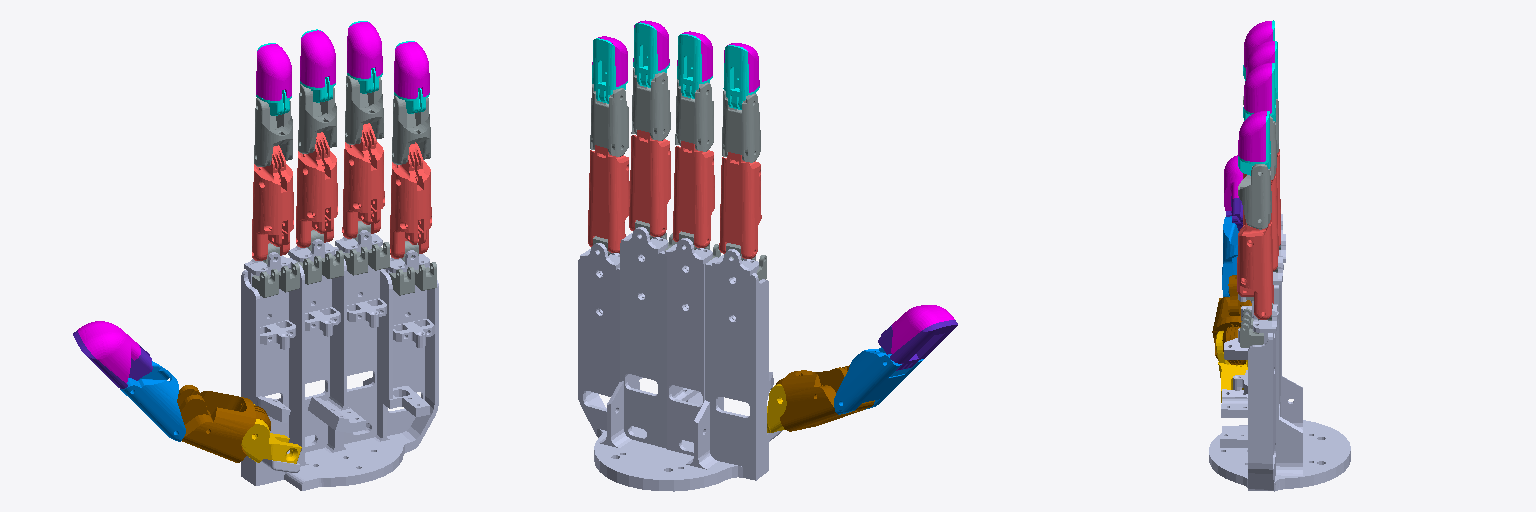
--- Render facts (derived) ---
Views: 3 orthographic renders of the robot side by side, from view 1: azimuth 30°, elevation 25°; view 2: azimuth 150°, elevation 25°; view 3: azimuth 270°, elevation 25°.
Model left_hand with 35 links and 34 joints (20 revolute, 8 prismatic, 6 fixed), rooted at left_base_link, posed every joint at zero.
Visible links, largest first — view 1: left_frame_link, left_thumb_metacarpol_link, left_pinky_proximal_link, left_ring_proximal_link, left_index_proximal_link, left_middle_proximal_link, left_thumb_proximal_link, left_thumb_tip_link, left_ring_middle_link, left_middle_middle_link, left_index_middle_link, left_pinky_middle_link (+10 smaller); view 2: left_frame_link, left_index_proximal_link, left_middle_proximal_link, left_ring_proximal_link, left_pinky_proximal_link, left_thumb_metacarpol_link, left_thumb_proximal_link, left_pinky_middle_link, left_index_middle_link, left_ring_middle_link, left_middle_middle_link, left_thumb_distal_link (+9 smaller); view 3: left_frame_link, left_pinky_proximal_link, left_pinky_middle_link, left_thumb_metacarpol_link, left_pinky_tip_link, left_ring_tip_link, left_thumb_proximal_link, left_t_Link, left_thumb_tip_link, left_index_tip_link, left_ring_proximal_link, left_middle_tip_link.
Boxes of the visible links, <box> form: left_frame_link: <box>241,230,438,490</box>; left_thumb_metacarpol_link: <box>177,385,270,462</box>; left_pinky_proximal_link: <box>390,142,431,258</box>; left_ring_proximal_link: <box>342,123,384,238</box>; left_index_proximal_link: <box>252,145,293,260</box>; left_middle_proximal_link: <box>296,132,337,247</box>; left_thumb_proximal_link: <box>120,361,185,441</box>; left_thumb_tip_link: <box>78,321,140,382</box>; left_ring_middle_link: <box>345,75,383,144</box>; left_middle_middle_link: <box>298,84,336,153</box>; left_index_middle_link: <box>254,98,292,166</box>; left_pinky_middle_link: <box>392,95,430,164</box>; left_frame_link: <box>578,227,782,491</box>; left_index_proximal_link: <box>719,152,761,258</box>; left_middle_proximal_link: <box>673,141,714,247</box>; left_ring_proximal_link: <box>629,130,670,236</box>; left_pinky_proximal_link: <box>588,145,629,252</box>; left_thumb_metacarpol_link: <box>776,365,874,431</box>; left_thumb_proximal_link: <box>834,347,923,414</box>; left_pinky_middle_link: <box>590,84,628,156</box>; left_index_middle_link: <box>722,90,760,162</box>; left_ring_middle_link: <box>631,68,670,140</box>; left_middle_middle_link: <box>675,79,713,151</box>; left_thumb_distal_link: <box>878,320,957,370</box>; left_frame_link: <box>1209,214,1350,491</box>; left_pinky_proximal_link: <box>1237,213,1273,319</box>; left_pinky_middle_link: <box>1238,164,1271,229</box>; left_thumb_metacarpol_link: <box>1212,275,1251,364</box>; left_pinky_tip_link: <box>1238,111,1266,161</box>; left_ring_tip_link: <box>1244,63,1271,113</box>; left_thumb_proximal_link: <box>1222,216,1238,296</box>; left_t_Link: <box>1216,331,1247,402</box>; left_thumb_tip_link: <box>1224,155,1242,210</box>; left_index_tip_link: <box>1244,21,1272,67</box>; left_ring_proximal_link: <box>1243,168,1278,270</box>; left_middle_tip_link: <box>1246,41,1274,77</box>.
Size in the robot's own frame: 0.1682 by 0.0601 by 0.19 metres.
Meshes: 35 distinct files referenced, 34 mesh visuals loaded (34 binary STL); not drawn: 1 (reference not matched to a file when rendering).

The robot description file, URDF, robot "left_hand":
<?xml version="1.0" encoding="utf-8"?>

<robot xmlns:xacro="http://ros.org/wiki/xacro" name="left_hand">
  <link
    name="left_base_link">
    <inertial>
      <origin
        xyz="5.18987266181319E-05 -5.18977325802022E-05 0.000838161394932715"
        rpy="0 0 0" />
      <mass
        value="0.018515312401126" />
      <inertia
        ixx="3.87059950304649E-06"
        ixy="-1.16876867872686E-08"
        ixz="3.68816984008469E-09"
        iyy="3.87059950113593E-06"
        iyz="-3.68810331792554E-09"
        izz="7.41475439850188E-06" />
    </inertial>
    <visual>
      <origin
        xyz="0 0 0"
        rpy="0 0 0" />
      <geometry>
        <mesh
          filename="package://visualization/urdf/left_hand_v1_meshes/base_link.STL" />
      </geometry>
      <material
        name="">
        <color
          rgba="0.611764705882353 0.658823529411765 0.670588235294118 1" />
      </material>
    </visual>
    <collision>
      <origin
        xyz="0 0 0"
        rpy="0 0 0" />
      <geometry>
        <mesh
          filename="package://visualization/urdf/left_hand_v1_meshes/base_link.STL" />
      </geometry>
    </collision>
  </link>
  <link
    name="left_frame_link">
    <inertial>
      <origin
        xyz="-0.00131149794330205 -0.0030198285167925 0.0400373579826716"
        rpy="0 0 0" />
      <mass
        value="0.046182728238364" />
      <inertia
        ixx="4.81110559801415E-05"
        ixy="6.61621141018433E-09"
        ixz="-6.52338485095017E-07"
        iyy="6.8309899093898E-05"
        iyz="1.48394203038913E-06"
        izz="2.82467906176085E-05" />
    </inertial>
    <visual>
      <origin
        xyz="0 0 0"
        rpy="0 0 0" />
      <geometry>
        <mesh
          filename="package://visualization/urdf/left_hand_v1_meshes/frame_link.STL" />
      </geometry>
      <material
        name="">
        <color
          rgba="0.792156862745098 0.819607843137255 0.933333333333333 1" />
      </material>
    </visual>
    <collision>
      <origin
        xyz="0 0 0"
        rpy="0 0 0" />
      <geometry>
        <mesh
          filename="package://visualization/urdf/left_hand_v1_meshes/frame_link.STL" />
      </geometry>
    </collision>
  </link>
  <joint
    name="left_frame"
    type="fixed">
    <origin
      xyz="0 0 0"
      rpy="0 0 0" />
    <parent
      link="left_base_link" />
    <child
      link="left_frame_link" />
    <axis
      xyz="0 0 0" />
  </joint>
  <link
    name="left_t_Link">
    <inertial>
      <origin
        xyz="-3.08384568642236E-05 0.000240555422902813 0.0120463125269918"
        rpy="0 0 0" />
      <mass
        value="0.00253406620111725" />
      <inertia
        ixx="1.85406505691861E-07"
        ixy="3.30158295818867E-09"
        ixz="7.28330421632582E-09"
        iyy="2.01151940565427E-07"
        iyz="3.96298627980716E-08"
        izz="1.14105600924877E-07" />
    </inertial>
    <visual>
      <origin
        xyz="0 0 0"
        rpy="0 0 0" />
      <geometry>
        <mesh
          filename="package://visualization/urdf/left_hand_v1_meshes/t_Link.STL" />
      </geometry>
      <material
        name="">
        <color
          rgba="1 0.792156862745098 0 1" />
      </material>
    </visual>
    <collision>
      <origin
        xyz="0 0 0"
        rpy="0 0 0" />
      <geometry>
        <mesh
          filename="package://visualization/urdf/left_hand_v1_meshes/t_Link.STL" />
      </geometry>
    </collision>
  </link>
  <joint
    name="left_thumb_cmc_abd"
    type="revolute">
    <origin
      xyz="-0.030369 -0.017851 0.02455"
      rpy="-1.2157 0.011469 1.5547" />
    <parent
      link="left_frame_link" />
    <child
      link="left_t_Link" />
    <axis
      xyz="0 -1 0" />
    <limit
      lower="0"
      upper="1.7453"
      effort="0"
      velocity="0" />
  </joint>
  <link
    name="left_thumb_metacarpol_link">
    <inertial>
      <origin
        xyz="2.09657379764625E-05 0.00427828067153943 0.0144687529126539"
        rpy="0 0 0" />
      <mass
        value="0.00864256984122037" />
      <inertia
        ixx="1.35636904545493E-06"
        ixy="-2.87937562115091E-10"
        ixz="1.37414127578593E-09"
        iyy="1.44909697468064E-06"
        iyz="-1.52439782313262E-07"
        izz="5.95952963406302E-07" />
    </inertial>
    <visual>
      <origin
        xyz="0 0 0"
        rpy="0 0 0" />
      <geometry>
        <mesh
          filename="package://visualization/urdf/left_hand_v1_meshes/thumb_metacarpol_link.STL" />
      </geometry>
      <material
        name="">
        <color
          rgba="0.643137254901961 0.4 0 1" />
      </material>
    </visual>
    <collision>
      <origin
        xyz="0 0 0"
        rpy="0 0 0" />
      <geometry>
        <mesh
          filename="package://visualization/urdf/left_hand_v1_meshes/thumb_metacarpol_link.STL" />
      </geometry>
    </collision>
  </link>
  <joint
    name="left_thumb_cmc_flex"
    type="revolute">
    <origin
      xyz="-0.00075443 -0.0051626 0.019636"
      rpy="0.14637 0.11355 -0.25937" />
    <parent
      link="left_t_Link" />
    <child
      link="left_thumb_metacarpol_link" />
    <axis
      xyz="1 0 0" />
    <limit
      lower="0"
      upper="1.4000"
      effort="0"
      velocity="0" />
  </joint>
  <link
    name="left_thumb_proximal_link">
    <inertial>
      <origin
        xyz="-1.2536117961065E-07 -0.00656432330561672 0.0129652144635366"
        rpy="0 0 0" />
      <mass
        value="0.0046151063369737" />
      <inertia
        ixx="4.35628666557695E-07"
        ixy="6.57077312738029E-12"
        ixz="-4.22802893672778E-12"
        iyy="5.89704888202919E-07"
        iyz="1.02506970054824E-07"
        izz="3.71649031691875E-07" />
    </inertial>
    <visual>
      <origin
        xyz="0 0 0"
        rpy="0 0 0" />
      <geometry>
        <mesh
          filename="package://visualization/urdf/left_hand_v1_meshes/thumb_proximal_link.STL" />
      </geometry>
      <material
        name="">
        <color
          rgba="0 0.6 1 1" />
      </material>
    </visual>
    <collision>
      <origin
        xyz="0 0 0"
        rpy="0 0 0" />
      <geometry>
        <mesh
          filename="package://visualization/urdf/left_hand_v1_meshes/thumb_proximal_link.STL" />
      </geometry>
    </collision>
  </link>
  <joint
    name="left_thumb_mcp"
    type="revolute">
    <origin
      xyz="0 0.0095039 0.034725"
      rpy="0 0 0" />
    <parent
      link="left_thumb_metacarpol_link" />
    <child
      link="left_thumb_proximal_link" />
    <axis
      xyz="1 0 0" />
    <limit
      lower="0"
      upper="1.2217"
      effort="0"
      velocity="0" />
  </joint>
  <link
    name="left_thumb_distal_link">
    <inertial>
      <origin
        xyz="-2.76382415433096E-06 -0.00244686822878971 0.0102409693191272"
        rpy="0 0 0" />
      <mass
        value="0.00364556544568981" />
      <inertia
        ixx="2.84594518625826E-07"
        ixy="-1.43913603575363E-11"
        ixz="-2.41744912080281E-11"
        iyy="2.91849820961359E-07"
        iyz="-5.12578188401234E-08"
        izz="1.35188439858873E-07" />
    </inertial>
    <visual>
      <origin
        xyz="0 0 0"
        rpy="0 0 0" />
      <geometry>
        <mesh
          filename="package://visualization/urdf/left_hand_v1_meshes/thumb_distal_link.STL" />
      </geometry>
      <material
        name="">
        <color
          rgba="0.4 0.2 0.8 1" />
      </material>
    </visual>
    <collision>
      <origin
        xyz="0 0 0"
        rpy="0 0 0" />
      <geometry>
        <mesh
          filename="package://visualization/urdf/left_hand_v1_meshes/thumb_distal_link.STL" />
      </geometry>
    </collision>
  </link>
  <joint
    name="left_thumb_ip"
    type="revolute">
    <origin
      xyz="0 -0.009767 0.028366"
      rpy="0.34907 0 0" />
    <parent
      link="left_thumb_proximal_link" />
    <child
      link="left_thumb_distal_link" />
    <axis
      xyz="1 0 0" />
    <limit
      lower="0"
      upper="1.5708"
      effort="0"
      velocity="0" />
  </joint>
  <link
    name="left_thumb_tip_link">
    <inertial>
      <origin
        xyz="-2.52063887179466E-07 -0.00771439512482892 -0.0101737551441116"
        rpy="0 0 0" />
      <mass
        value="0.00296168286968343" />
      <inertia
        ixx="1.23951170371756E-07"
        ixy="2.42533006342412E-12"
        ixz="1.04281426870498E-13"
        iyy="1.83279698051373E-07"
        iyz="-2.08364584683859E-08"
        izz="1.35391579603096E-07" />
    </inertial>
    <visual>
      <origin
        xyz="0 0 0"
        rpy="0 0 0" />
      <geometry>
        <mesh
          filename="package://visualization/urdf/left_hand_v1_meshes/thumb_tip_link.STL" />
      </geometry>
      <material
        name="">
        <color
          rgba="1 0 1 1" />
      </material>
    </visual>
    <collision>
      <origin
        xyz="0 0 0"
        rpy="0 0 0" />
      <geometry>
        <mesh
          filename="package://visualization/urdf/left_hand_v1_meshes/thumb_tip_link.STL" />
      </geometry>
    </collision>
  </link>
  <joint
    name="left_thumb_tip"
    type="fixed">
    <origin
      xyz="0 0.0023115858897875 0.029876683808909"
      rpy="0 0 0" />
    <parent
      link="left_thumb_distal_link" />
    <child
      link="left_thumb_tip_link" />
    <axis
      xyz="0 0 0" />
  </joint>
  <link
    name="left_index_f_link">
    <inertial>
      <origin
        xyz="2.08166817117217E-17 7.68523219621002E-05 0.000988451431081809"
        rpy="0 0 0" />
      <mass
        value="0.000272618505177845" />
      <inertia
        ixx="2.42307312371155E-09"
        ixy="3.03096091958171E-24"
        ixz="6.04361146080156E-24"
        iyy="2.67029546368636E-09"
        iyz="-5.19188852052262E-11"
        izz="1.91591070620696E-09" />
    </inertial>
    <visual>
      <origin
        xyz="0 0 0"
        rpy="0 0 0" />
      <geometry>
        <mesh
          filename="package://visualization/urdf/left_hand_v1_meshes/index_f_link.STL" />
      </geometry>
      <material
        name="">
        <color
          rgba="0.611764705882353 0.658823529411765 0.670588235294118 1" />
      </material>
    </visual>
    <collision>
      <origin
        xyz="0 0 0"
        rpy="0 0 0" />
      <geometry>
        <mesh
          filename="package://visualization/urdf/left_hand_v1_meshes/index_f_link.STL" />
      </geometry>
    </collision>
  </link>
  <joint
    name="left_index_mcp_abd"
    type="revolute">
    <origin
      xyz="-0.029596 -0.003707 0.1018"
      rpy="0 0 0.034907" />
    <parent
      link="left_frame_link" />
    <child
      link="left_index_f_link" />
    <axis
      xyz="0 1 0" />
    <limit
      lower="-0.2618"
      upper="0.2618"
      effort="0"
      velocity="0" />
  </joint>
  <link
    name="left_index_proximal_link">
    <inertial>
      <origin
        xyz="1.13828329435794E-07 -0.00246889103565057 0.020518447772934"
        rpy="0 0 0" />
      <mass
        value="0.00599684399920735" />
      <inertia
        ixx="8.1163997252189E-07"
        ixy="-1.19238452054171E-12"
        ixz="1.44955396996456E-11"
        iyy="8.282578794773E-07"
        iyz="1.72424028288894E-08"
        izz="1.80781825011687E-07" />
    </inertial>
    <visual>
      <origin
        xyz="0 0 0"
        rpy="0 0 0" />
      <geometry>
        <mesh
          filename="package://visualization/urdf/left_hand_v1_meshes/index_proximal_link.STL" />
      </geometry>
      <material
        name="">
        <color
          rgba="1 0.4 0.4 1" />
      </material>
    </visual>
    <collision>
      <origin
        xyz="0 0 0"
        rpy="0 0 0" />
      <geometry>
        <mesh
          filename="package://visualization/urdf/left_hand_v1_meshes/index_proximal_link.STL" />
      </geometry>
    </collision>
  </link>
  <joint
    name="left_index_mcp_flex"
    type="revolute">
    <origin
      xyz="0 -0.0004 0.0027"
      rpy="0.018103 0 0" />
    <parent
      link="left_index_f_link" />
    <child
      link="left_index_proximal_link" />
    <axis
      xyz="1 0 0" />
    <limit
      lower="0"
      upper="1.5708"
      effort="0"
      velocity="0" />
  </joint>
  <link
    name="left_index_middle_link">
    <inertial>
      <origin
        xyz="1.60194246211914E-07 -0.00107010034902085 0.0096497999202657"
        rpy="0 0 0" />
      <mass
        value="0.0022951205465851" />
      <inertia
        ixx="1.27438304642925E-07"
        ixy="-3.37593078742999E-13"
        ixz="4.63466424878181E-13"
        iyy="1.52271816080716E-07"
        iyz="-5.57513834715427E-09"
        izz="7.2275326005948E-08" />
    </inertial>
    <visual>
      <origin
        xyz="0 0 0"
        rpy="0 0 0" />
      <geometry>
        <mesh
          filename="package://visualization/urdf/left_hand_v1_meshes/index_middle_link.STL" />
      </geometry>
      <material
        name="">
        <color
          rgba="0.611764705882353 0.658823529411765 0.670588235294118 1" />
      </material>
    </visual>
    <collision>
      <origin
        xyz="0 0 0"
        rpy="0 0 0" />
      <geometry>
        <mesh
          filename="package://visualization/urdf/left_hand_v1_meshes/index_middle_link.STL" />
      </geometry>
    </collision>
  </link>
  <joint
    name="left_index_pip"
    type="revolute">
    <origin
      xyz="0 -0.000704692474492747 0.0430188505587838"
      rpy="0 0 0" />
    <parent
      link="left_index_proximal_link" />
    <child
      link="left_index_middle_link" />
    <axis
      xyz="1 0 0" />
    <limit
      lower="0"
      upper="1.5708"
      effort="0"
      velocity="0" />
  </joint>
  <link
    name="left_index_distal_link">
    <inertial>
      <origin
        xyz="1.05220411560775E-07 -0.00129401872799453 0.00673885761500959"
        rpy="0 0 0" />
      <mass
        value="0.00137698971613404" />
      <inertia
        ixx="6.73515509763739E-08"
        ixy="6.01530176373286E-13"
        ixz="5.76066252612455E-14"
        iyy="5.97413332404224E-08"
        iyz="-1.27696422128919E-08"
        izz="2.50978344022667E-08" />
    </inertial>
    <visual>
      <origin
        xyz="0 0 0"
        rpy="0 0 0" />
      <geometry>
        <mesh
          filename="package://visualization/urdf/left_hand_v1_meshes/index_distal_link.STL" />
      </geometry>
      <material
        name="">
        <color
          rgba="0 1 1 1" />
      </material>
    </visual>
    <collision>
      <origin
        xyz="0 0 0"
        rpy="0 0 0" />
      <geometry>
        <mesh
          filename="package://visualization/urdf/left_hand_v1_meshes/index_distal_link.STL" />
      </geometry>
    </collision>
  </link>
  <joint
    name="left_index_dip"
    type="revolute">
    <origin
      xyz="0 0.000383952941619931 0.0219966492934402"
      rpy="-0.00275677194064253 0 0" />
    <parent
      link="left_index_middle_link" />
    <child
      link="left_index_distal_link" />
    <axis
      xyz="1 0 0" />
    <limit
      lower="0"
      upper="1.5708"
      effort="0"
      velocity="0" />
  </joint>
  <link
    name="left_index_tip_link">
    <inertial>
      <origin
        xyz="-2.15232385664121E-08 -0.00637900676058869 -0.00961579748883559"
        rpy="0 0 0" />
      <mass
        value="0.00170572301090788" />
      <inertia
        ixx="5.74548529133021E-08"
        ixy="-3.42355780349361E-14"
        ixz="-7.93965165529592E-13"
        iyy="6.61878208388039E-08"
        iyz="-1.00599153313456E-08"
        izz="4.09447660273453E-08" />
    </inertial>
    <visual>
      <origin
        xyz="0 0 0"
        rpy="0 0 0" />
      <geometry>
        <mesh
          filename="package://visualization/urdf/left_hand_v1_meshes/index_tip_link.STL" />
      </geometry>
      <material
        name="">
        <color
          rgba="1 0 1 1" />
      </material>
    </visual>
    <collision>
      <origin
        xyz="0 0 0"
        rpy="0 0 0" />
      <geometry>
        <mesh
          filename="package://visualization/urdf/left_hand_v1_meshes/index_tip_link.STL" />
      </geometry>
    </collision>
  </link>
  <joint
    name="left_index_tip"
    type="fixed">
    <origin
      xyz="0 0.00329764978643327 0.0249542326219998"
      rpy="0 0 0" />
    <parent
      link="left_index_distal_link" />
    <child
      link="left_index_tip_link" />
    <axis
      xyz="0 0 0" />
  </joint>
  <link
    name="left_middle_f_link">
    <inertial>
      <origin
        xyz="-7.88065690459553E-14 7.68523219620965E-05 0.000988451431081805"
        rpy="0 0 0" />
      <mass
        value="0.000272618505177845" />
      <inertia
        ixx="2.42307312371153E-09"
        ixy="4.14088218533477E-21"
        ixz="4.04332708247635E-20"
        iyy="2.67029546368634E-09"
        iyz="-5.19188852052236E-11"
        izz="1.91591070620695E-09" />
    </inertial>
    <visual>
      <origin
        xyz="0 0 0"
        rpy="0 0 0" />
      <geometry>
        <mesh
          filename="package://visualization/urdf/left_hand_v1_meshes/middle_f_link.STL" />
      </geometry>
      <material
        name="">
        <color
          rgba="0.611764705882353 0.658823529411765 0.670588235294118 1" />
      </material>
    </visual>
    <collision>
      <origin
        xyz="0 0 0"
        rpy="0 0 0" />
      <geometry>
        <mesh
          filename="package://visualization/urdf/left_hand_v1_meshes/middle_f_link.STL" />
      </geometry>
    </collision>
  </link>
  <joint
    name="left_middle_mcp_abd"
    type="revolute">
    <origin
      xyz="-0.00849999999978476 -0.0026 0.1023"
      rpy="0 0 0" />
    <parent
      link="left_frame_link" />
    <child
      link="left_middle_f_link" />
    <axis
      xyz="0 1 0" />
    <limit
      lower="-0.2618"
      upper="0.2618"
      effort="0"
      velocity="0" />
  </joint>
  <link
    name="left_middle_proximal_link">
    <inertial>
      <origin
        xyz="1.10516959198867E-07 -0.00246889269657067 0.0205184424976948"
        rpy="0 0 0" />
      <mass
        value="0.00599684490093027" />
      <inertia
        ixx="8.11640218433145E-07"
        ixy="-1.16376782384298E-12"
        ixz="1.45425846030028E-11"
        iyy="8.28258160608381E-07"
        iyz="1.72425491989079E-08"
        izz="1.8078182069832E-07" />
    </inertial>
    <visual>
      <origin
        xyz="0 0 0"
        rpy="0 0 0" />
      <geometry>
        <mesh
          filename="package://visualization/urdf/left_hand_v1_meshes/middle_proximal_link.STL" />
      </geometry>
      <material
        name="">
        <color
          rgba="1 0.4 0.4 1" />
      </material>
    </visual>
    <collision>
      <origin
        xyz="0 0 0"
        rpy="0 0 0" />
      <geometry>
        <mesh
          filename="package://visualization/urdf/left_hand_v1_meshes/middle_proximal_link.STL" />
      </geometry>
    </collision>
  </link>
  <joint
    name="left_middle_mcp_flex"
    type="revolute">
    <origin
      xyz="0 -0.0004 0.0027"
      rpy="0.018103 0 0" />
    <parent
      link="left_middle_f_link" />
    <child
      link="left_middle_proximal_link" />
    <axis
      xyz="1 0 0" />
    <limit
      lower="0"
      upper="1.5708"
      effort="0"
      velocity="0" />
  </joint>
  <link
    name="left_middle_middle_link">
    <inertial>
      <origin
        xyz="1.59243666374961E-07 -0.00107010387627971 0.00964979404496044"
        rpy="0 0 0" />
      <mass
        value="0.00229512127249161" />
      <inertia
        ixx="1.27438495005045E-07"
        ixy="-3.76599498044285E-13"
        ixz="4.94514658597106E-13"
        iyy="1.5227138226136E-07"
        iyz="-5.57502969888837E-09"
        izz="7.22754093119279E-08" />
    </inertial>
    <visual>
      <origin
        xyz="0 0 0"
        rpy="0 0 0" />
      <geometry>
        <mesh
          filename="package://visualization/urdf/left_hand_v1_meshes/middle_middle_link.STL" />
      </geometry>
      <material
        name="">
        <color
          rgba="0.611764705882353 0.658823529411765 0.670588235294118 1" />
      </material>
    </visual>
    <collision>
      <origin
        xyz="0 0 0"
        rpy="0 0 0" />
      <geometry>
        <mesh
          filename="package://visualization/urdf/left_hand_v1_meshes/middle_middle_link.STL" />
      </geometry>
    </collision>
  </link>
  <joint
    name="left_middle_pip"
    type="revolute">
    <origin
      xyz="0 -0.000704692474492743 0.0430188505587839"
      rpy="0 0 0" />
    <parent
      link="left_middle_proximal_link" />
    <child
      link="left_middle_middle_link" />
    <axis
      xyz="1 0 0" />
    <limit
      lower="0"
      upper="1.5708"
      effort="0"
      velocity="0" />
  </joint>
  <link
    name="left_middle_distal_link">
    <inertial>
      <origin
        xyz="1.02169429722889E-07 -0.00127543394509335 0.00674239569351925"
        rpy="0 0 0" />
      <mass
        value="0.00137698810312193" />
      <inertia
        ixx="6.73515242087834E-08"
        ixy="5.92268838332217E-13"
        ixz="6.33324632623448E-14"
        iyy="5.96706474711041E-08"
        iyz="-1.2864964038345E-08"
        izz="2.51684950037008E-08" />
    </inertial>
    <visual>
      <origin
        xyz="0 0 0"
        rpy="0 0 0" />
      <geometry>
        <mesh
          filename="package://visualization/urdf/left_hand_v1_meshes/middle_distal_link.STL" />
      </geometry>
      <material
        name="">
        <color
          rgba="0 1 1 1" />
      </material>
    </visual>
    <collision>
      <origin
        xyz="0 0 0"
        rpy="0 0 0" />
      <geometry>
        <mesh
          filename="package://visualization/urdf/left_hand_v1_meshes/middle_distal_link.STL" />
      </geometry>
    </collision>
  </link>
  <joint
    name="left_middle_dip"
    type="revolute">
    <origin
      xyz="0 0.000383952941619943 0.0219966492934408"
      rpy="0 0 0" />
    <parent
      link="left_middle_middle_link" />
    <child
      link="left_middle_distal_link" />
    <axis
      xyz="1 0 0" />
    <limit
      lower="0"
      upper="1.5708"
      effort="0"
      velocity="0" />
  </joint>
  <link
    name="left_middle_tip_link">
    <inertial>
      <origin
        xyz="-2.21758799617848E-08 -0.00637900074967735 -0.0096157879628592"
        rpy="0 0 0" />
      <mass
        value="0.00170572337119633" />
      <inertia
        ixx="5.74549059825661E-08"
        ixy="-2.34190971619965E-14"
        ixz="-7.88214021135924E-13"
        iyy="6.61878129236817E-08"
        iyz="-1.0059963116846E-08"
        izz="4.0944779133914E-08" />
    </inertial>
    <visual>
      <origin
        xyz="0 0 0"
        rpy="0 0 0" />
      <geometry>
        <mesh
          filename="package://visualization/urdf/left_hand_v1_meshes/middle_tip_link.STL" />
      </geometry>
      <material
        name="">
        <color
          rgba="1 0 1 1" />
      </material>
    </visual>
    <collision>
      <origin
        xyz="0 0 0"
        rpy="0 0 0" />
      <geometry>
        <mesh
          filename="package://visualization/urdf/left_hand_v1_meshes/middle_tip_link.STL" />
      </geometry>
    </collision>
  </link>
  <joint
    name="left_middle_tip"
    type="fixed">
    <origin
      xyz="0 0.00336643029687281 0.0249450469416905"
      rpy="-0.00275677194064254 0 0" />
    <parent
      link="left_middle_distal_link" />
    <child
      link="left_middle_tip_link" />
    <axis
      xyz="0 0 0" />
  </joint>
  <link
    name="left_ring_f_link">
    <inertial>
      <origin
        xyz="-3.46944695195361E-18 7.68523219621006E-05 0.000988451431081818"
        rpy="0 0 0" />
      <mass
        value="0.000272618505177846" />
      <inertia
        ixx="2.42307312371157E-09"
        ixy="2.07167161683795E-24"
        ixz="-6.76180399066343E-26"
        iyy="2.67029546368638E-09"
        iyz="-5.19188852052242E-11"
        izz="1.91591070620697E-09" />
    </inertial>
    <visual>
      <origin
        xyz="0 0 0"
        rpy="0 0 0" />
      <geometry>
        <mesh
          filename="package://visualization/urdf/left_hand_v1_meshes/ring_f_link.STL" />
      </geometry>
      <material
        name="">
        <color
          rgba="0.611764705882353 0.658823529411765 0.670588235294118 1" />
      </material>
    </visual>
    <collision>
      <origin
        xyz="0 0 0"
        rpy="0 0 0" />
      <geometry>
        <mesh
          filename="package://visualization/urdf/left_hand_v1_meshes/ring_f_link.STL" />
      </geometry>
    </collision>
  </link>
  <joint
    name="left_ring_mcp_abd"
    type="revolute">
    <origin
      xyz="0.0125958919149416 -0.00370704707588761 0.101804549659765"
      rpy="0 0 -0.0349065850398961" />
    <parent
      link="left_frame_link" />
    <child
      link="left_ring_f_link" />
    <axis
      xyz="0 1 0" />
    <limit
      lower="-0.2618"
      upper="0.2618"
      effort="0"
      velocity="0" />
  </joint>
  <link
    name="left_ring_proximal_link">
    <inertial>
      <origin
        xyz="1.11753913473872E-07 -0.00246889439302628 0.0205184490965408"
        rpy="0 0 0" />
      <mass
        value="0.00599684572639037" />
      <inertia
        ixx="8.11640031986541E-07"
        ixy="-1.08661144072978E-12"
        ixz="1.45639326341618E-11"
        iyy="8.28257811207212E-07"
        iyz="1.72423984177851E-08"
        izz="1.80781978382571E-07" />
    </inertial>
    <visual>
      <origin
        xyz="0 0 0"
        rpy="0 0 0" />
      <geometry>
        <mesh
          filename="package://visualization/urdf/left_hand_v1_meshes/ring_proximal_link.STL" />
      </geometry>
      <material
        name="">
        <color
          rgba="1 0.4 0.4 1" />
      </material>
    </visual>
    <collision>
      <origin
        xyz="0 0 0"
        rpy="0 0 0" />
      <geometry>
        <mesh
          filename="package://visualization/urdf/left_hand_v1_meshes/ring_proximal_link.STL" />
      </geometry>
    </collision>
  </link>
  <joint
    name="left_ring_mcp_flex"
    type="revolute">
    <origin
      xyz="0 -0.0004 0.0027"
      rpy="0.018103 0 0" />
    <parent
      link="left_ring_f_link" />
    <child
      link="left_ring_proximal_link" />
    <axis
      xyz="1 0 0" />
    <limit
      lower="0"
      upper="1.5708"
      effort="0"
      velocity="0" />
  </joint>
  <link
    name="left_ring_middle_link">
    <inertial>
      <origin
        xyz="1.53121697699793E-07 -0.00107010135311555 0.00964979875932005"
        rpy="0 0 0" />
      <mass
        value="0.00229512027057487" />
      <inertia
        ixx="1.27438336271926E-07"
        ixy="-5.2813501173037E-13"
        ixz="5.19857811024663E-13"
        iyy="1.52271644949031E-07"
        iyz="-5.57511371028144E-09"
        izz="7.22753400415917E-08" />
    </inertial>
    <visual>
      <origin
        xyz="0 0 0"
        rpy="0 0 0" />
      <geometry>
        <mesh
          filename="package://visualization/urdf/left_hand_v1_meshes/ring_middle_link.STL" />
      </geometry>
      <material
        name="">
        <color
          rgba="0.611764705882353 0.658823529411765 0.670588235294118 1" />
      </material>
    </visual>
    <collision>
      <origin
        xyz="0 0 0"
        rpy="0 0 0" />
      <geometry>
        <mesh
          filename="package://visualization/urdf/left_hand_v1_meshes/ring_middle_link.STL" />
      </geometry>
    </collision>
  </link>
  <joint
    name="left_ring_pip"
    type="revolute">
    <origin
      xyz="0 -0.000704692474492746 0.0430188505587838"
      rpy="0 0 0" />
    <parent
      link="left_ring_proximal_link" />
    <child
      link="left_ring_middle_link" />
    <axis
      xyz="1 0 0" />
    <limit
      lower="0"
      upper="1.5708"
      effort="0"
      velocity="0" />
  </joint>
  <link
    name="left_ring_distal_link">
    <inertial>
      <origin
        xyz="1.01194071427946E-07 -0.00127543439904158 0.00674239654401408"
        rpy="0 0 0" />
      <mass
        value="0.00137698874426085" />
      <inertia
        ixx="6.73515183566083E-08"
        ixy="5.92206227320032E-13"
        ixz="6.32525252082851E-14"
        iyy="5.96706464621161E-08"
        iyz="-1.28649587382961E-08"
        izz="2.5168496703253E-08" />
    </inertial>
    <visual>
      <origin
        xyz="0 0 0"
        rpy="0 0 0" />
      <geometry>
        <mesh
          filename="package://visualization/urdf/left_hand_v1_meshes/ring_distal_link.STL" />
      </geometry>
      <material
        name="">
        <color
          rgba="0 1 1 1" />
      </material>
    </visual>
    <collision>
      <origin
        xyz="0 0 0"
        rpy="0 0 0" />
      <geometry>
        <mesh
          filename="package://visualization/urdf/left_hand_v1_meshes/ring_distal_link.STL" />
      </geometry>
    </collision>
  </link>
  <joint
    name="left_ring_dip"
    type="revolute">
    <origin
      xyz="0 0.000383952941619927 0.0219966492934402"
      rpy="0 0 0" />
    <parent
      link="left_ring_middle_link" />
    <child
      link="left_ring_distal_link" />
    <axis
      xyz="1 0 0" />
    <limit
      lower="0"
      upper="1.5708"
      effort="0"
      velocity="0" />
  </joint>
  <link
    name="left_ring_tip_link">
    <inertial>
      <origin
        xyz="-2.41833004420433E-08 -0.00637900684450665 -0.00961579748883352"
        rpy="0 0 0" />
      <mass
        value="0.00170572318511849" />
      <inertia
        ixx="5.74548586938876E-08"
        ixy="-4.28319389458824E-14"
        ixz="-7.81574248750349E-13"
        iyy="6.61878144380551E-08"
        iyz="-1.00599153729381E-08"
        izz="4.09447671003721E-08" />
    </inertial>
    <visual>
      <origin
        xyz="0 0 0"
        rpy="0 0 0" />
      <geometry>
        <mesh
          filename="package://visualization/urdf/left_hand_v1_meshes/ring_tip_link.STL" />
      </geometry>
      <material
        name="">
        <color
          rgba="1 0 1 1" />
      </material>
    </visual>
    <collision>
      <origin
        xyz="0 0 0"
        rpy="0 0 0" />
      <geometry>
        <mesh
          filename="package://visualization/urdf/left_hand_v1_meshes/ring_tip_link.STL" />
      </geometry>
    </collision>
  </link>
  <joint
    name="left_ring_tip"
    type="fixed">
    <origin
      xyz="0 0.00336643029687281 0.0249450469416905"
      rpy="-0.00275677194064252 0 0" />
    <parent
      link="left_ring_distal_link" />
    <child
      link="left_ring_tip_link" />
    <axis
      xyz="0 0 0" />
  </joint>
  <link
    name="left_pinky_f_link">
    <inertial>
      <origin
        xyz="0 7.68523219621029E-05 0.000988451431081847"
        rpy="0 0 0" />
      <mass
        value="0.000272618505177846" />
      <inertia
        ixx="2.42307312371161E-09"
        ixy="7.1782410838862E-25"
        ixz="6.73287536078057E-24"
        iyy="2.67029546368641E-09"
        iyz="-5.19188852052193E-11"
        izz="1.91591070620696E-09" />
    </inertial>
    <visual>
      <origin
        xyz="0 0 0"
        rpy="0 0 0" />
      <geometry>
        <mesh
          filename="package://visualization/urdf/left_hand_v1_meshes/pinky_f_link.STL" />
      </geometry>
      <material
        name="">
        <color
          rgba="0.611764705882353 0.658823529411765 0.670588235294118 1" />
      </material>
    </visual>
    <collision>
      <origin
        xyz="0 0 0"
        rpy="0 0 0" />
      <geometry>
        <mesh
          filename="package://visualization/urdf/left_hand_v1_meshes/pinky_f_link.STL" />
      </geometry>
    </collision>
  </link>
  <joint
    name="left_pinky_mcp_abd"
    type="revolute">
    <origin
      xyz="0.0332259975438891 -0.00595751087982225 0.0890434920430963"
      rpy="0 0 -0.0699464803322307" />
    <parent
      link="left_frame_link" />
    <child
      link="left_pinky_f_link" />
    <axis
      xyz="0 1 0" />
    <limit
      lower="-0.2618"
      upper="0.2618"
      effort="0"
      velocity="0" />
  </joint>
  <link
    name="left_pinky_proximal_link">
    <inertial>
      <origin
        xyz="1.17350728766341E-07 -0.00246889271692932 0.0205184742182268"
        rpy="0 0 0" />
      <mass
        value="0.00599683372090147" />
      <inertia
        ixx="8.11637074532367E-07"
        ixy="-1.11899638419779E-12"
        ixz="1.52551038055746E-11"
        iyy="8.28254630182109E-07"
        iyz="1.72420651931332E-08"
        izz="1.80781679361551E-07" />
    </inertial>
    <visual>
      <origin
        xyz="0 0 0"
        rpy="0 0 0" />
      <geometry>
        <mesh
          filename="package://visualization/urdf/left_hand_v1_meshes/pinky_proximal_link.STL" />
      </geometry>
      <material
        name="">
        <color
          rgba="1 0.4 0.4 1" />
      </material>
    </visual>
    <collision>
      <origin
        xyz="0 0 0"
        rpy="0 0 0" />
      <geometry>
        <mesh
          filename="package://visualization/urdf/left_hand_v1_meshes/pinky_proximal_link.STL" />
      </geometry>
    </collision>
  </link>
  <joint
    name="left_pinky_mcp_flex"
    type="revolute">
    <origin
      xyz="0 -0.0004 0.0027"
      rpy="0.018103 0 0" />
    <parent
      link="left_pinky_f_link" />
    <child
      link="left_pinky_proximal_link" />
    <axis
      xyz="1 0 0" />
    <limit
      lower="0"
      upper="1.5708"
      effort="0"
      velocity="0" />
  </joint>
  <link
    name="left_pinky_middle_link">
    <inertial>
      <origin
        xyz="-1.43130021050542E-07 -0.001070098391283 -0.00964980529801608"
        rpy="0 0 0" />
      <mass
        value="0.00229511880358933" />
      <inertia
        ixx="1.27438120355541E-07"
        ixy="7.72152806373798E-13"
        ixz="5.54683905348895E-13"
        iyy="1.52271899091507E-07"
        iyz="5.57521353341099E-09"
        izz="7.2275252077856E-08" />
    </inertial>
    <visual>
      <origin
        xyz="0 0 0"
        rpy="0 0 0" />
      <geometry>
        <mesh
          filename="package://visualization/urdf/left_hand_v1_meshes/pinky_middle_link.STL" />
      </geometry>
      <material
        name="">
        <color
          rgba="0.611764705882353 0.658823529411765 0.670588235294118 1" />
      </material>
    </visual>
    <collision>
      <origin
        xyz="0 0 0"
        rpy="0 0 0" />
      <geometry>
        <mesh
          filename="package://visualization/urdf/left_hand_v1_meshes/pinky_middle_link.STL" />
      </geometry>
    </collision>
  </link>
  <joint
    name="left_pinky_pip"
    type="revolute">
    <origin
      xyz="0 -0.000704692474492746 0.0430188505587839"
      rpy="3.14159265358978 0 3.14159265358979" />
    <parent
      link="left_pinky_proximal_link" />
    <child
      link="left_pinky_middle_link" />
    <axis
      xyz="-1 0 0" />
    <limit
      lower="0"
      upper="1.5708"
      effort="0"
      velocity="0" />
  </joint>
  <link
    name="left_pinky_distal_link">
    <inertial>
      <origin
        xyz="1.00567220752412E-07 -0.00129401748541132 0.00673885609225866"
        rpy="0 0 0" />
      <mass
        value="0.00137698956250512" />
      <inertia
        ixx="6.73515153890909E-08"
        ixy="5.93050898694383E-13"
        ixz="6.39459466648838E-14"
        iyy="5.97413161886501E-08"
        iyz="-1.2769642532001E-08"
        izz="2.50978303400701E-08" />
    </inertial>
    <visual>
      <origin
        xyz="0 0 0"
        rpy="0 0 0" />
      <geometry>
        <mesh
          filename="package://visualization/urdf/left_hand_v1_meshes/pinky_distal_link.STL" />
      </geometry>
      <material
        name="">
        <color
          rgba="0 1 1 1" />
      </material>
    </visual>
    <collision>
      <origin
        xyz="0 0 0"
        rpy="0 0 0" />
      <geometry>
        <mesh
          filename="package://visualization/urdf/left_hand_v1_meshes/pinky_distal_link.STL" />
      </geometry>
    </collision>
  </link>
  <joint
    name="left_pinky_dip"
    type="revolute">
    <origin
      xyz="0 0.000383952941619935 -0.0219966492934401"
      rpy="3.13883588164915 0 3.14159265358979" />
    <parent
      link="left_pinky_middle_link" />
    <child
      link="left_pinky_distal_link" />
    <axis
      xyz="1 0 0" />
    <limit
      lower="0"
      upper="1.5708"
      effort="0"
      velocity="0" />
  </joint>
  <link
    name="left_pinky_tip_link">
    <inertial>
      <origin
        xyz="-2.87954898120502E-08 -0.00637901106985847 -0.00961580393346456"
        rpy="0 0 0" />
      <mass
        value="0.00170572327227634" />
      <inertia
        ixx="5.74548340588504E-08"
        ixy="-6.66526716324728E-14"
        ixz="-7.62050224300525E-13"
        iyy="6.61878078323611E-08"
        iyz="-1.00598833497776E-08"
        izz="4.09447607712032E-08" />
    </inertial>
    <visual>
      <origin
        xyz="0 0 0"
        rpy="0 0 0" />
      <geometry>
        <mesh
          filename="package://visualization/urdf/left_hand_v1_meshes/pinky_tip_link.STL" />
      </geometry>
      <material
        name="">
        <color
          rgba="1 0 1 1" />
      </material>
    </visual>
    <collision>
      <origin
        xyz="0 0 0"
        rpy="0 0 0" />
      <geometry>
        <mesh
          filename="package://visualization/urdf/left_hand_v1_meshes/pinky_tip_link.STL" />
      </geometry>
    </collision>
  </link>
  <joint
    name="left_pinky_tip"
    type="fixed">
    <origin
      xyz="0 0.00329764978643327 0.024954232622"
      rpy="0 0 0" />
    <parent
      link="left_pinky_distal_link" />
    <child
      link="left_pinky_tip_link" />
    <axis
      xyz="0 0 0" />
  </joint>
  <link
    name="left_index_prismatic1_link">
    <inertial>
      <origin
        xyz="-9.39276351141771E-10 -0.00241296040019414 -0.00240064563958557"
        rpy="0 0 0" />
      <mass
        value="0.000394369846861351" />
      <inertia
        ixx="5.56374524031439E-09"
        ixy="2.53945921809528E-17"
        ixz="-6.34034756285402E-16"
        iyy="3.87547054690682E-09"
        iyz="6.0980547267061E-10"
        izz="5.07397792343612E-09" />
    </inertial>
    <visual>
      <origin
        xyz="0 0 0"
        rpy="0 0 0" />
      <geometry>
        <mesh
          filename="package://visualization/urdf/left_hand_v1_meshes/index_prismatic1_link.STL" />
      </geometry>
      <material
        name="">
        <color
          rgba="0.611764705882353 0.658823529411765 0.670588235294118 1" />
      </material>
    </visual>
    <collision>
      <origin
        xyz="0 0 0"
        rpy="0 0 0" />
      <geometry>
        <mesh
          filename="package://visualization/urdf/left_hand_v1_meshes/index_prismatic1_link.STL" />
      </geometry>
    </collision>
  </link>
  <joint
    name="left_index_prismatic1"
    type="prismatic">
    <origin
      xyz="-0.0344747428096294 -0.00726357886481495 0.0945992626510313"
      rpy="0 0 0.0349065850398965" />
    <parent
      link="left_frame_link" />
    <child
      link="left_index_prismatic1_link" />
    <axis
      xyz="0 0 -1" />
    <limit
      lower="0"
      upper="0.017"
      effort="0"
      velocity="0" />
  </joint>
  <link
    name="left_index_prismatic2_link">
    <inertial>
      <origin
        xyz="-9.39276354611218E-10 -0.00241296040019414 -0.00240064563958558"
        rpy="0 0 0" />
      <mass
        value="0.000394369846861351" />
      <inertia
        ixx="5.56374524031437E-09"
        ixy="2.53945920129317E-17"
        ixz="-6.3403475182315E-16"
        iyy="3.87547054690681E-09"
        iyz="6.09805472670594E-10"
        izz="5.07397792343609E-09" />
    </inertial>
    <visual>
      <origin
        xyz="0 0 0"
        rpy="0 0 0" />
      <geometry>
        <mesh
          filename="package://visualization/urdf/left_hand_v1_meshes/index_prismatic2_link.STL" />
      </geometry>
      <material
        name="">
        <color
          rgba="0.611764705882353 0.658823529411765 0.670588235294118 1" />
      </material>
    </visual>
    <collision>
      <origin
        xyz="0 0 0"
        rpy="0 0 0" />
      <geometry>
        <mesh
          filename="package://visualization/urdf/left_hand_v1_meshes/index_prismatic2_link.STL" />
      </geometry>
    </collision>
  </link>
  <joint
    name="left_index_prismatic2"
    type="prismatic">
    <origin
      xyz="-0.0244808345394687 -0.00691458389779098 0.0945992626518286"
      rpy="0 0 0.0349065850398965" />
    <parent
      link="left_frame_link" />
    <child
      link="left_index_prismatic2_link" />
    <axis
      xyz="0 0 -1" />
    <limit
      lower="0"
      upper="0.017"
      effort="0"
      velocity="0" />
  </joint>
  <link
    name="left_middle_prismatic1_link">
    <inertial>
      <origin
        xyz="-9.3927632078411E-10 -0.00241296040019414 -0.00240064563958555"
        rpy="0 0 0" />
      <mass
        value="0.000394369846861353" />
      <inertia
        ixx="5.56374524031439E-09"
        ixy="2.53946153871446E-17"
        ixz="-6.3403476327838E-16"
        iyy="3.87547054690683E-09"
        iyz="6.09805472670606E-10"
        izz="5.07397792343614E-09" />
    </inertial>
    <visual>
      <origin
        xyz="0 0 0"
        rpy="0 0 0" />
      <geometry>
        <mesh
          filename="package://visualization/urdf/left_hand_v1_meshes/middle_prismatic1_link.STL" />
      </geometry>
      <material
        name="">
        <color
          rgba="0.611764705882353 0.658823529411765 0.670588235294118 1" />
      </material>
    </visual>
    <collision>
      <origin
        xyz="0 0 0"
        rpy="0 0 0" />
      <geometry>
        <mesh
          filename="package://visualization/urdf/left_hand_v1_meshes/middle_prismatic1_link.STL" />
      </geometry>
    </collision>
  </link>
  <joint
    name="left_middle_prismatic1"
    type="prismatic">
    <origin
      xyz="-0.0134999999999849 -0.00598409580514471 0.0950947129912662"
      rpy="0 0 0" />
    <parent
      link="left_frame_link" />
    <child
      link="left_middle_prismatic1_link" />
    <axis
      xyz="0 0 -1" />
    <limit
      lower="0"
      upper="0.017"
      effort="0"
      velocity="0" />
  </joint>
  <link
    name="left_middle_prismatic2_link">
    <inertial>
      <origin
        xyz="-9.39276312977855E-10 -0.00241296040019414 -0.00240064563958558"
        rpy="0 0 0" />
      <mass
        value="0.000394369846861354" />
      <inertia
        ixx="5.56374524031443E-09"
        ixy="2.53946143932428E-17"
        ixz="-6.34034756520493E-16"
        iyy="3.87547054690688E-09"
        iyz="6.09805472670608E-10"
        izz="5.07397792343615E-09" />
    </inertial>
    <visual>
      <origin
        xyz="0 0 0"
        rpy="0 0 0" />
      <geometry>
        <mesh
          filename="package://visualization/urdf/left_hand_v1_meshes/middle_prismatic2_link.STL" />
      </geometry>
      <material
        name="">
        <color
          rgba="0.611764705882353 0.658823529411765 0.670588235294118 1" />
      </material>
    </visual>
    <collision>
      <origin
        xyz="0 0 0"
        rpy="0 0 0" />
      <geometry>
        <mesh
          filename="package://visualization/urdf/left_hand_v1_meshes/middle_prismatic2_link.STL" />
      </geometry>
    </collision>
  </link>
  <joint
    name="left_middle_prismatic2"
    type="prismatic">
    <origin
      xyz="-0.00350000000001516 -0.00598409580514471 0.0950947129920634"
      rpy="0 0 0" />
    <parent
      link="left_frame_link" />
    <child
      link="left_middle_prismatic2_link" />
    <axis
      xyz="0 0 -1" />
    <limit
      lower="0"
      upper="0.017"
      effort="0"
      velocity="0" />
  </joint>
  <link
    name="left_ring_prismatic1_link">
    <inertial>
      <origin
        xyz="-9.39276316447302E-10 -0.00241296040019417 -0.00240064563958556"
        rpy="0 0 0" />
      <mass
        value="0.000394369846861354" />
      <inertia
        ixx="5.56374524031447E-09"
        ixy="2.53946027839502E-17"
        ixz="-6.34034749257398E-16"
        iyy="3.87547054690686E-09"
        iyz="6.09805472670623E-10"
        izz="5.07397792343616E-09" />
    </inertial>
    <visual>
      <origin
        xyz="0 0 0"
        rpy="0 0 0" />
      <geometry>
        <mesh
          filename="package://visualization/urdf/left_hand_v1_meshes/ring_prismatic1_link.STL" />
      </geometry>
      <material
        name="">
        <color
          rgba="0.611764705882353 0.658823529411765 0.670588235294118 1" />
      </material>
    </visual>
    <collision>
      <origin
        xyz="0 0 0"
        rpy="0 0 0" />
      <geometry>
        <mesh
          filename="package://visualization/urdf/left_hand_v1_meshes/ring_prismatic1_link.STL" />
      </geometry>
    </collision>
  </link>
  <joint
    name="left_ring_prismatic1"
    type="prismatic">
    <origin
      xyz="0.00748083453946868 -0.00691458389779104 0.0945992626510313"
      rpy="0 0 -0.0349065850398832" />
    <parent
      link="left_frame_link" />
    <child
      link="left_ring_prismatic1_link" />
    <axis
      xyz="0 0 -1" />
    <limit
      lower="0"
      upper="0.017"
      effort="0"
      velocity="0" />
  </joint>
  <link
    name="left_ring_prismatic2_link">
    <inertial>
      <origin
        xyz="-9.39276413591816E-10 -0.00241296040019415 -0.00240064563958556"
        rpy="0 0 0" />
      <mass
        value="0.000394369846861355" />
      <inertia
        ixx="5.56374524031448E-09"
        ixy="2.53946013493089E-17"
        ixz="-6.34034752217154E-16"
        iyy="3.87547054690687E-09"
        iyz="6.09805472670621E-10"
        izz="5.07397792343618E-09" />
    </inertial>
    <visual>
      <origin
        xyz="0 0 0"
        rpy="0 0 0" />
      <geometry>
        <mesh
          filename="package://visualization/urdf/left_hand_v1_meshes/ring_prismatic2_link.STL" />
      </geometry>
      <material
        name="">
        <color
          rgba="0.611764705882353 0.658823529411765 0.670588235294118 1" />
      </material>
    </visual>
    <collision>
      <origin
        xyz="0 0 0"
        rpy="0 0 0" />
      <geometry>
        <mesh
          filename="package://visualization/urdf/left_hand_v1_meshes/ring_prismatic2_link.STL" />
      </geometry>
    </collision>
  </link>
  <joint
    name="left_ring_prismatic2"
    type="prismatic">
    <origin
      xyz="0.0174747428096295 -0.00726357886481505 0.0945992626518286"
      rpy="0 0 -0.0349065850398832" />
    <parent
      link="left_frame_link" />
    <child
      link="left_ring_prismatic2_link" />
    <axis
      xyz="0 0 -1" />
    <limit
      lower="0"
      upper="0.017"
      effort="0"
      velocity="0" />
  </joint>
  <link
    name="left_pinky_prismatic1_link">
    <inertial>
      <origin
        xyz="-9.3927633032509E-10 -0.00241296040019416 -0.00240064563958556"
        rpy="0 0 0" />
      <mass
        value="0.000394369846861354" />
      <inertia
        ixx="5.56374524031444E-09"
        ixy="2.53946027968749E-17"
        ixz="-6.34034763872E-16"
        iyy="3.87547054690686E-09"
        iyz="6.09805472670601E-10"
        izz="5.07397792343618E-09" />
    </inertial>
    <visual>
      <origin
        xyz="0 0 0"
        rpy="0 0 0" />
      <geometry>
        <mesh
          filename="package://visualization/urdf/left_hand_v1_meshes/pinky_prismatic1_link.STL" />
      </geometry>
      <material
        name="">
        <color
          rgba="0.611764705882353 0.658823529411765 0.670588235294118 1" />
      </material>
    </visual>
    <collision>
      <origin
        xyz="0 0 0"
        rpy="0 0 0" />
      <geometry>
        <mesh
          filename="package://visualization/urdf/left_hand_v1_meshes/pinky_prismatic1_link.STL" />
      </geometry>
    </collision>
  </link>
  <joint
    name="left_pinky_prismatic1"
    type="prismatic">
    <origin
      xyz="0.0280017112093865 -0.00898388440491384 0.0818382050343625"
      rpy="0 0 -0.0699464803322178" />
    <parent
      link="left_frame_link" />
    <child
      link="left_pinky_prismatic1_link" />
    <axis
      xyz="0 0 -1" />
    <limit
      lower="0"
      upper="0.017"
      effort="0"
      velocity="0" />
  </joint>
  <link
    name="left_pinky_prismatic2_link">
    <inertial>
      <origin
        xyz="-9.3927633032509E-10 -0.00241296040019416 -0.00240064563958556"
        rpy="0 0 0" />
      <mass
        value="0.000394369846861356" />
      <inertia
        ixx="5.56374524031447E-09"
        ixy="2.53946000309898E-17"
        ixz="-6.34034757603522E-16"
        iyy="3.8754705469069E-09"
        iyz="6.09805472670613E-10"
        izz="5.0739779234362E-09" />
    </inertial>
    <visual>
      <origin
        xyz="0 0 0"
        rpy="0 0 0" />
      <geometry>
        <mesh
          filename="package://visualization/urdf/left_hand_v1_meshes/pinky_prismatic2_link.STL" />
      </geometry>
      <material
        name="">
        <color
          rgba="0.611764705882353 0.658823529411765 0.670588235294118 1" />
      </material>
    </visual>
    <collision>
      <origin
        xyz="0 0 0"
        rpy="0 0 0" />
      <geometry>
        <mesh
          filename="package://visualization/urdf/left_hand_v1_meshes/pinky_prismatic2_link.STL" />
      </geometry>
    </collision>
  </link>
  <joint
    name="left_pinky_prismatic2"
    type="prismatic">
    <origin
      xyz="0.0379772586307819 -0.00968277899130439 0.0818382050351598"
      rpy="0 0 -0.0699464803322178" />
    <parent
      link="left_frame_link" />
    <child
      link="left_pinky_prismatic2_link" />
    <axis
      xyz="0 0 -1" />
    <limit
      lower="0"
      upper="0.017"
      effort="0"
      velocity="0" />
  </joint>
</robot>
